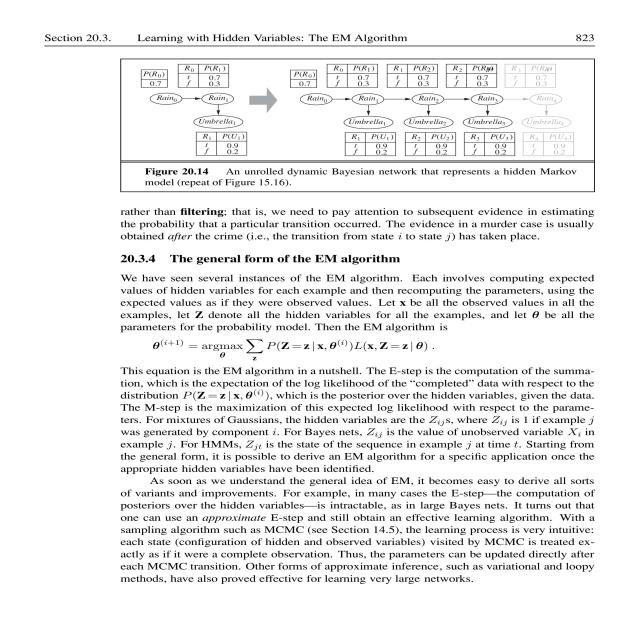diagram: (116, 59, 594, 194)
